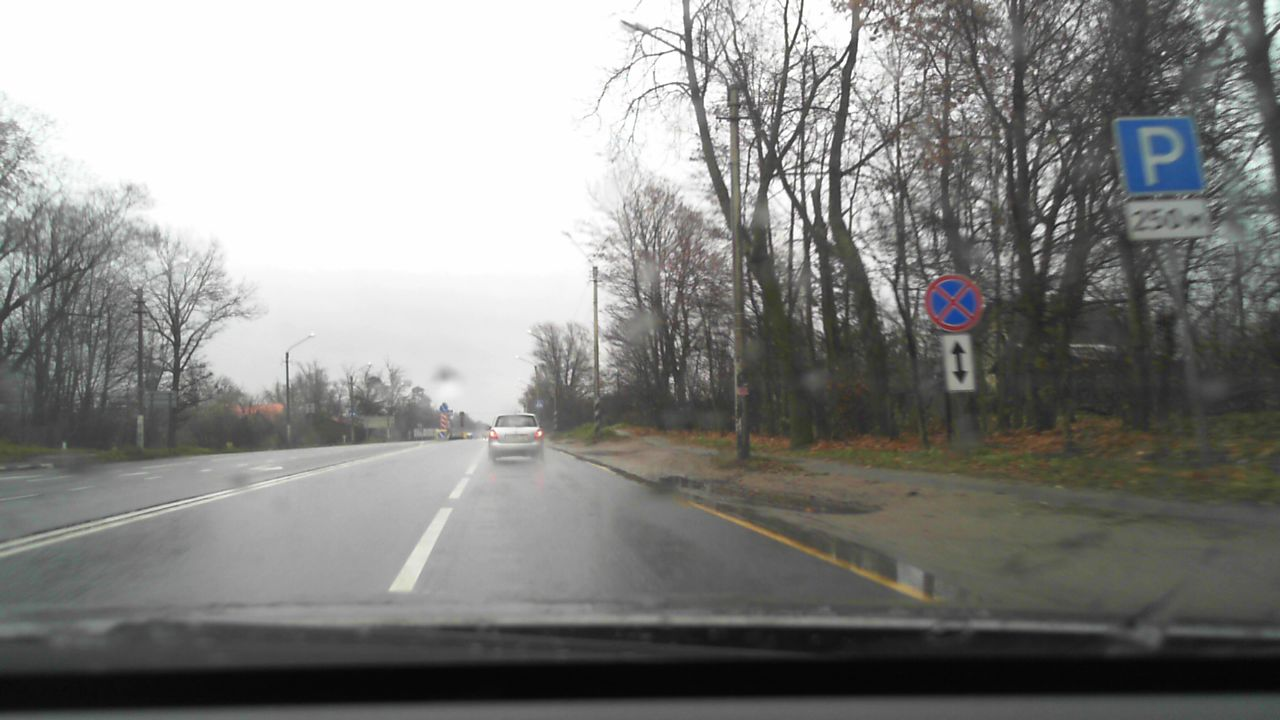No Parking: (926, 275, 983, 333)
